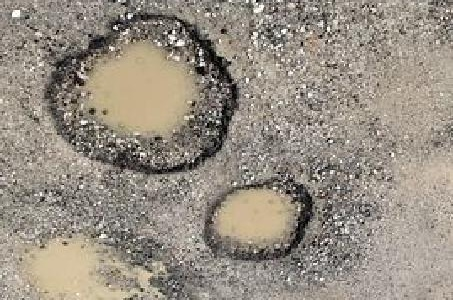pothole: (39, 9, 244, 178), (14, 226, 178, 300), (200, 179, 316, 264)
